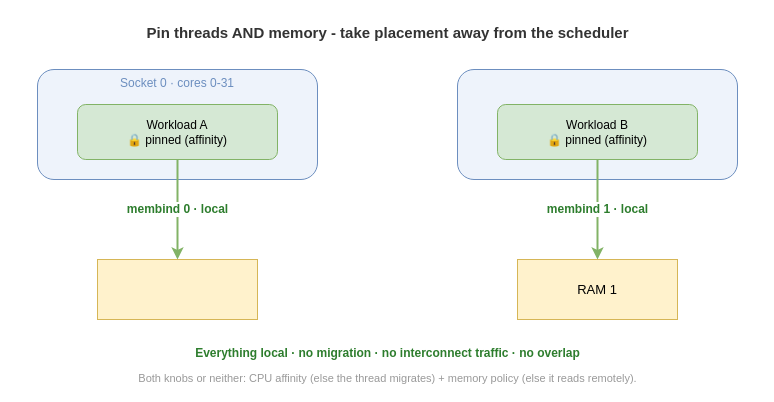
This 774x402 diagram has some shape labels left out. Here are the shapes that lost their labels. From the top down, the box of each, then its label:
(456, 68, 738, 180): Socket 1 · cores 32-63
(96, 258, 258, 320): RAM 0
